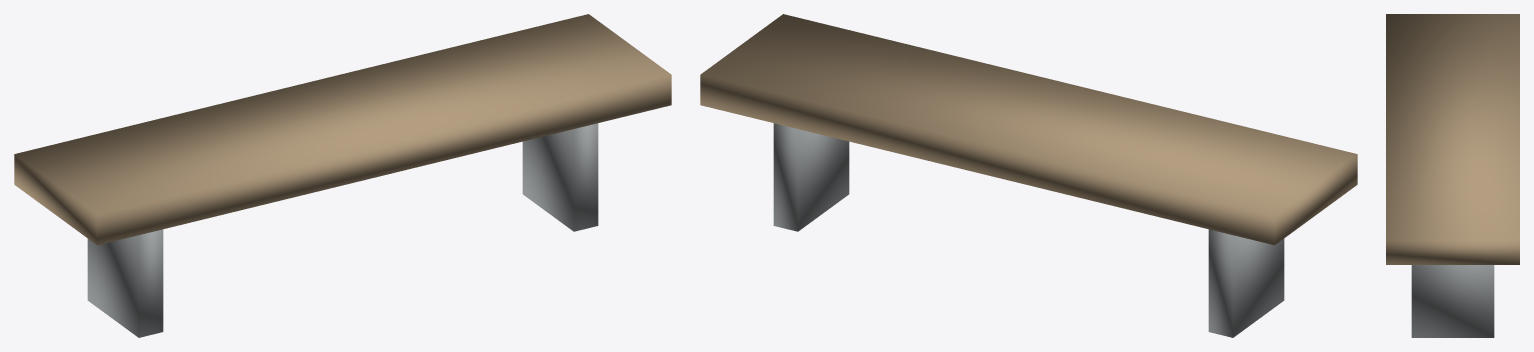
Rendered from holding_cell_bench__squat.glb.
3 renders of one model, left to right at view 1: azimuth 30°, elevation 25°; view 2: azimuth 150°, elevation 25°; view 3: azimuth 270°, elevation 25°, orthographic. The views are drawn at different scales.
Parts seen in each view (by area): view 1: world; view 2: world; view 3: world.
Boxes of the visible parts, x1,y1,x2,y2 form: world: (14,14,671,337); world: (700,14,1357,337); world: (1386,14,1519,337).
Bounding box in the file's own units: 1.81 × 0.4494 × 0.4536.
